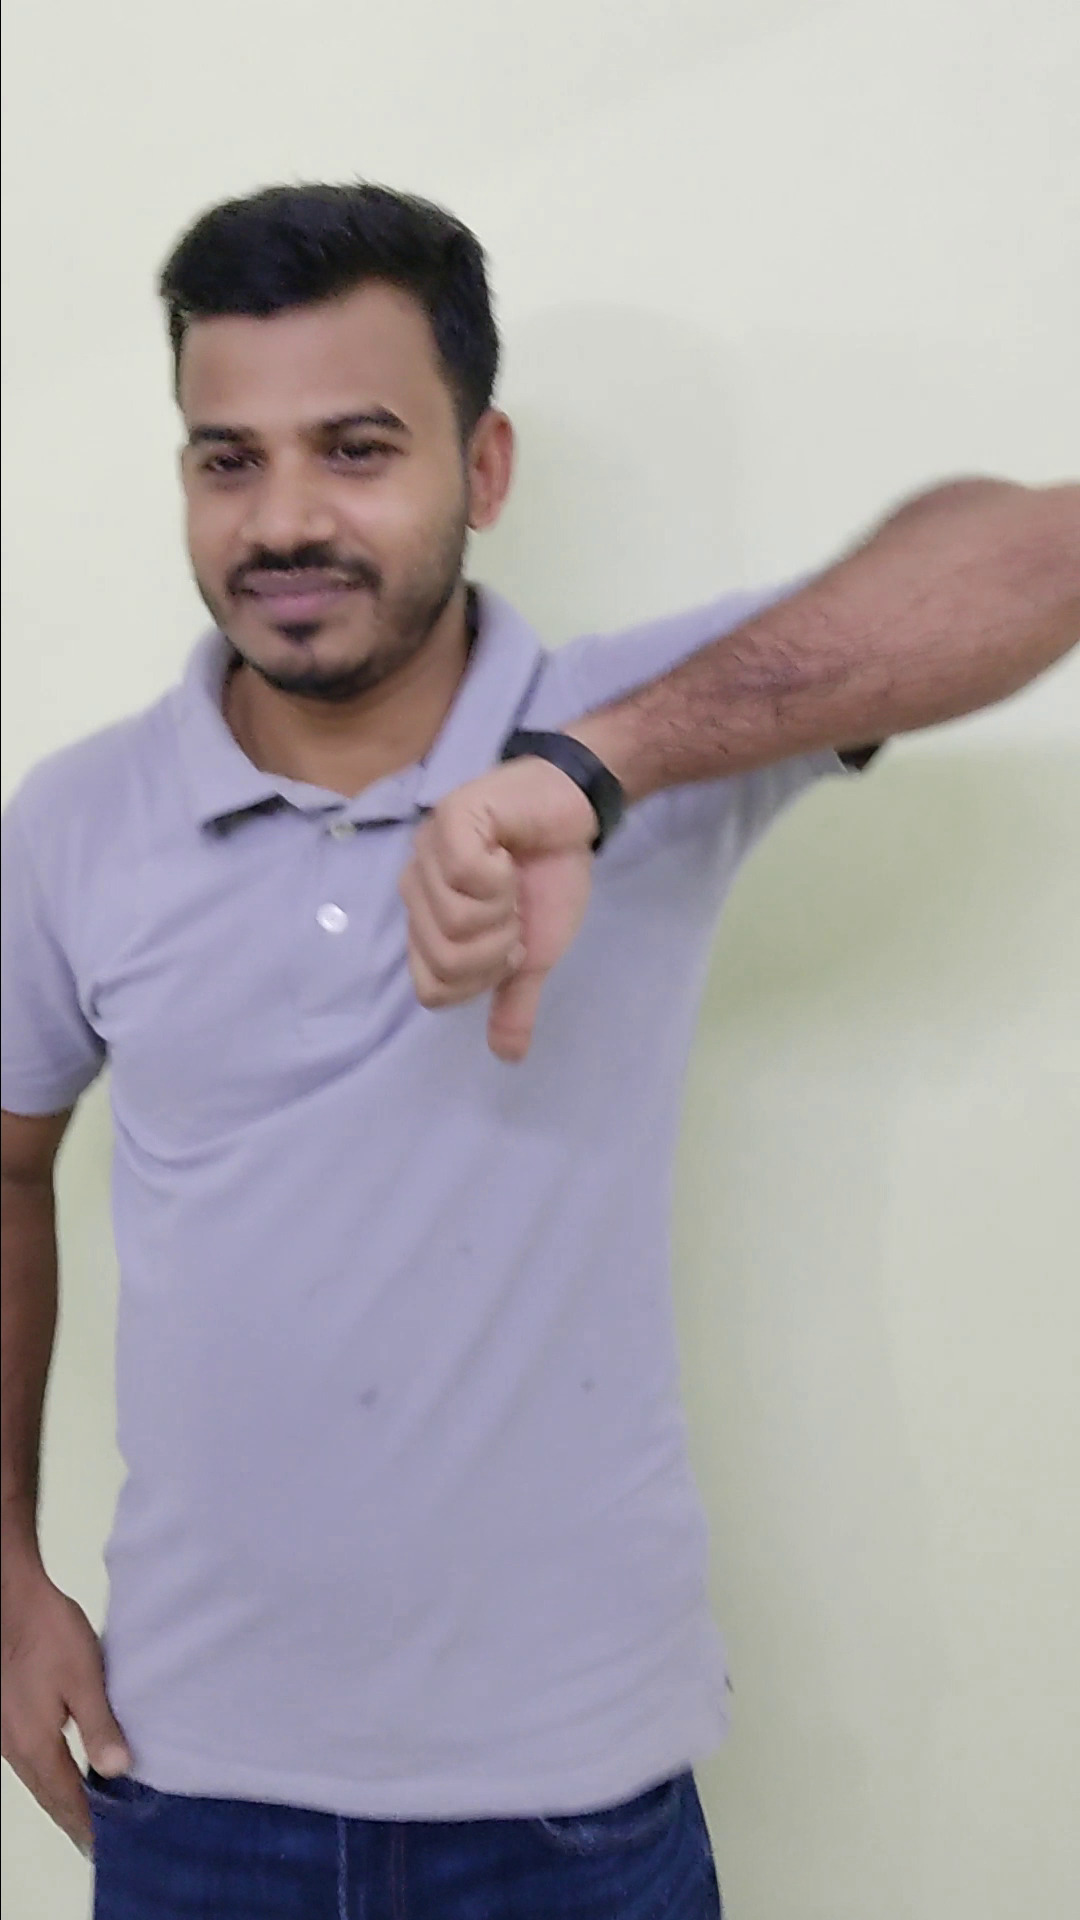Dislike: (386, 724, 625, 1077)
None: (3, 1545, 156, 1865)
